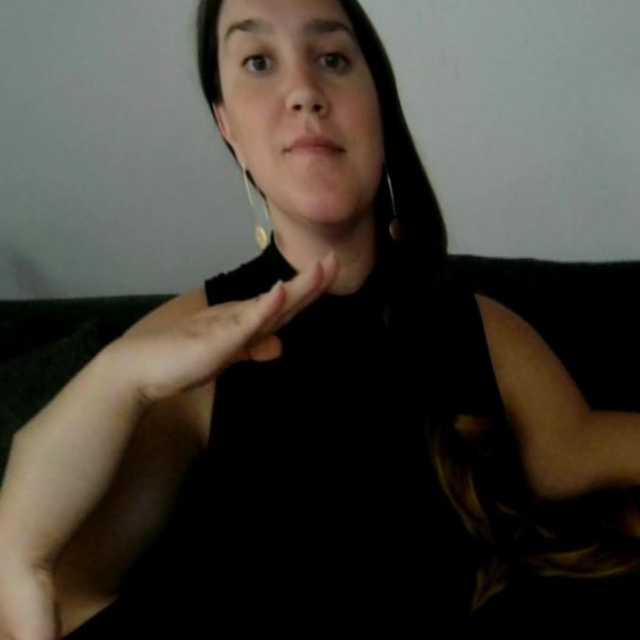Paper: (59, 167, 400, 491)
